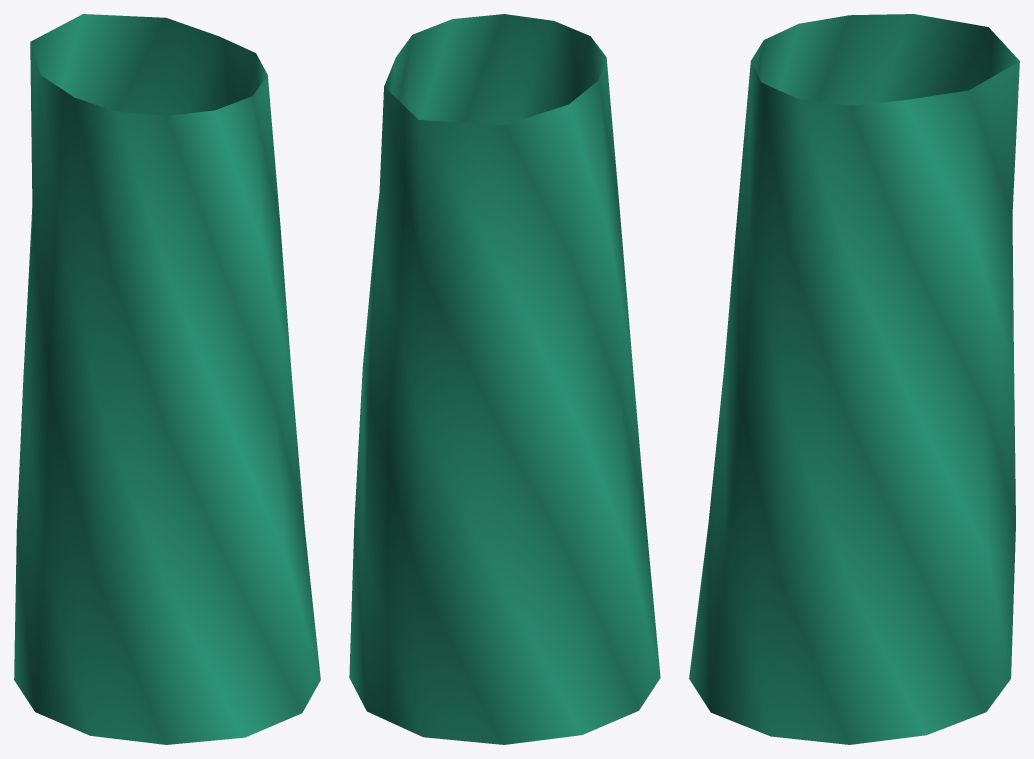
Rendered from mythril_armor_greave.L.glb.
3 views of the same model, side by side, from view 1: azimuth 30°, elevation 25°; view 2: azimuth 150°, elevation 25°; view 3: azimuth 270°, elevation 25° (orthographic). The views are drawn at different scales.
Parts seen in each view (by area): view 1: mythril_armor_greave.L; view 2: mythril_armor_greave.L; view 3: mythril_armor_greave.L.
Part boxes in pixels (bbox=[...]): mythril_armor_greave.L: bbox=[14, 14, 320, 744]; mythril_armor_greave.L: bbox=[349, 14, 660, 744]; mythril_armor_greave.L: bbox=[689, 14, 1019, 744].
Size of the model in its own units: 0.1721 by 0.3767 by 0.1828.
